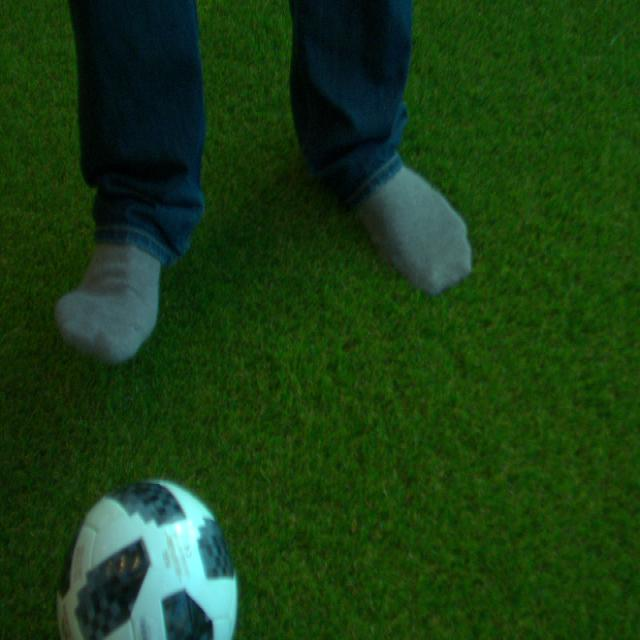ball: (59, 477, 240, 640)
